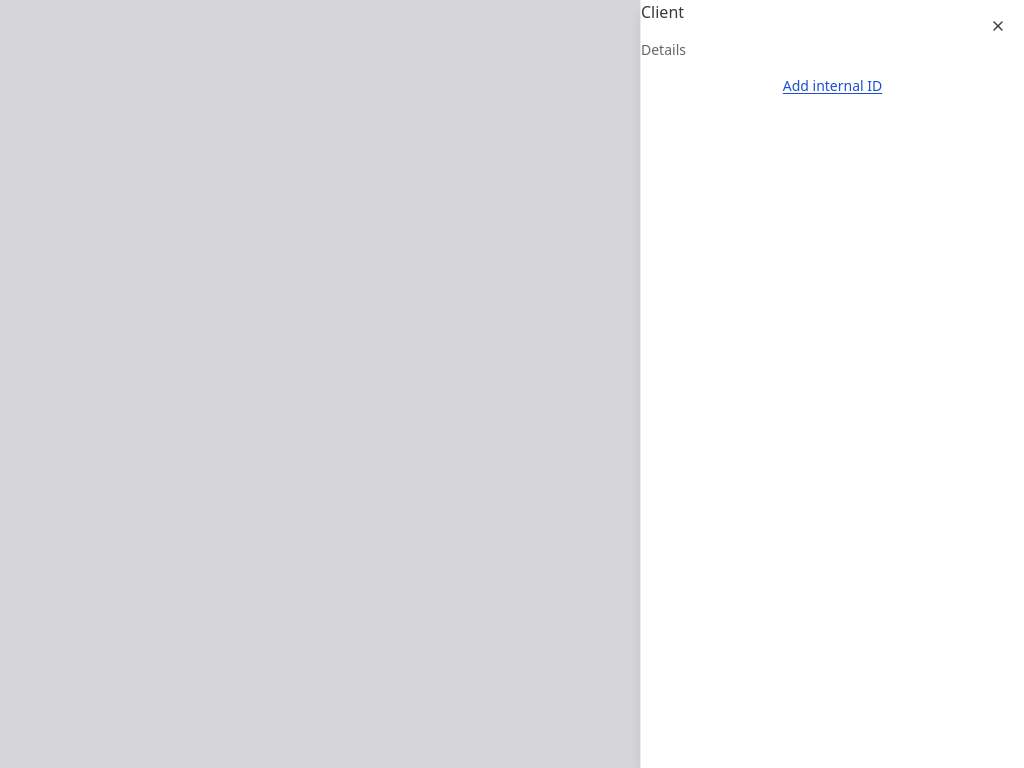
Test: Escape closes only the input inside a sheet; a second Escape closes the sheet
The image size is (1024, 768).
Later steps or results of the test are not shown.
Click the button "Add internal ID" at (832, 86), box [641,76,1023,96]
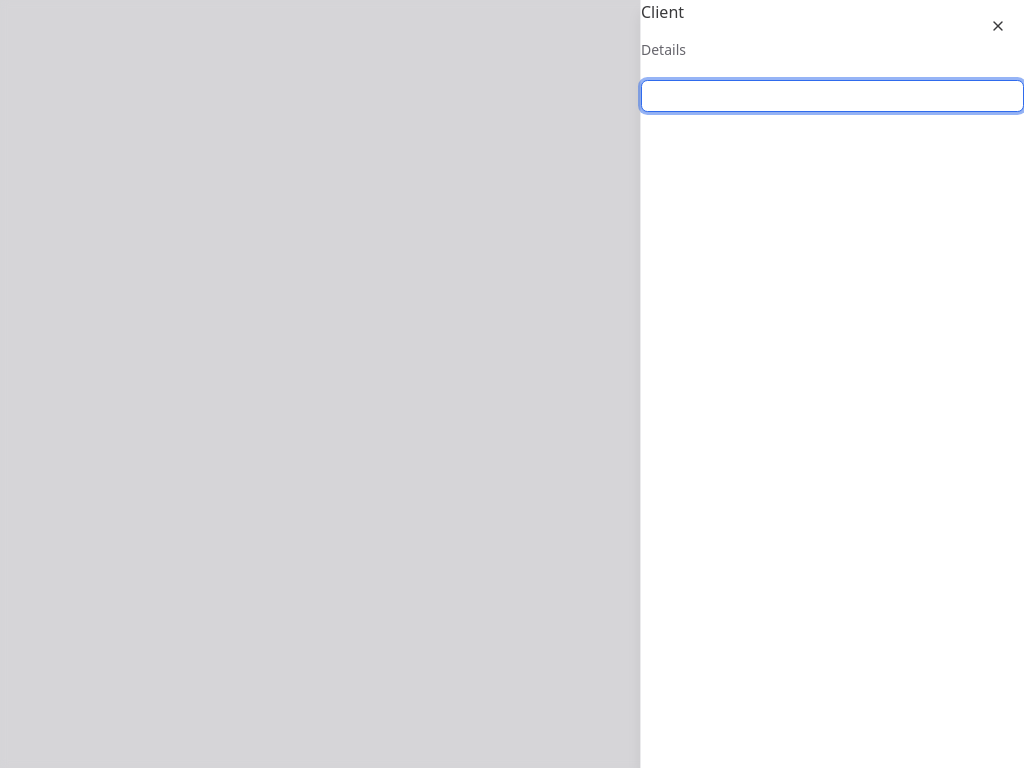
Type "K" into the field named "Add internal ID" at (832, 96), box [641,80,1023,112]
Then press Escape
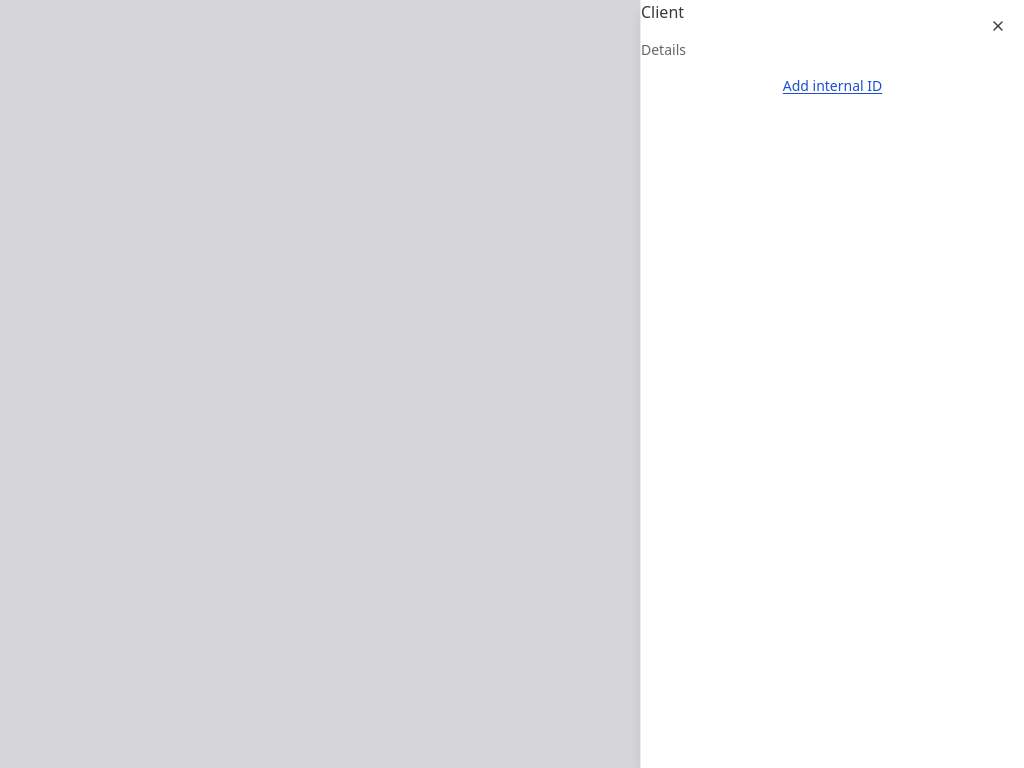
Expected: the button "Add internal ID" is shown, [641,76,1023,96]
